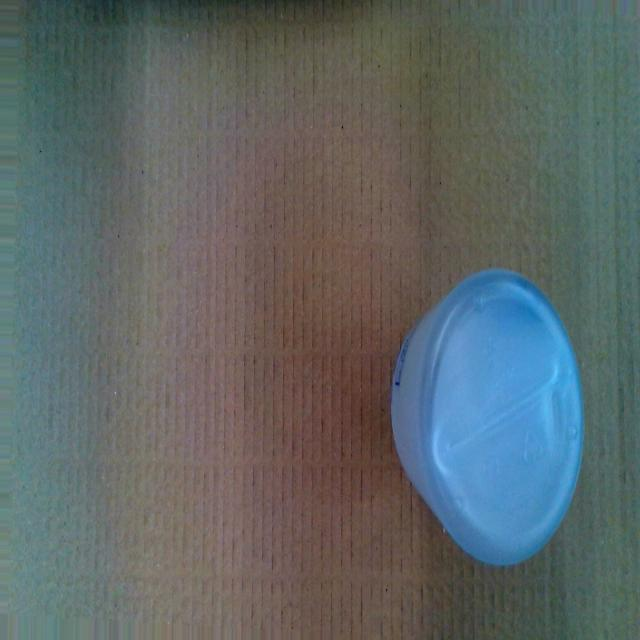bottle: (391, 266, 585, 571)
